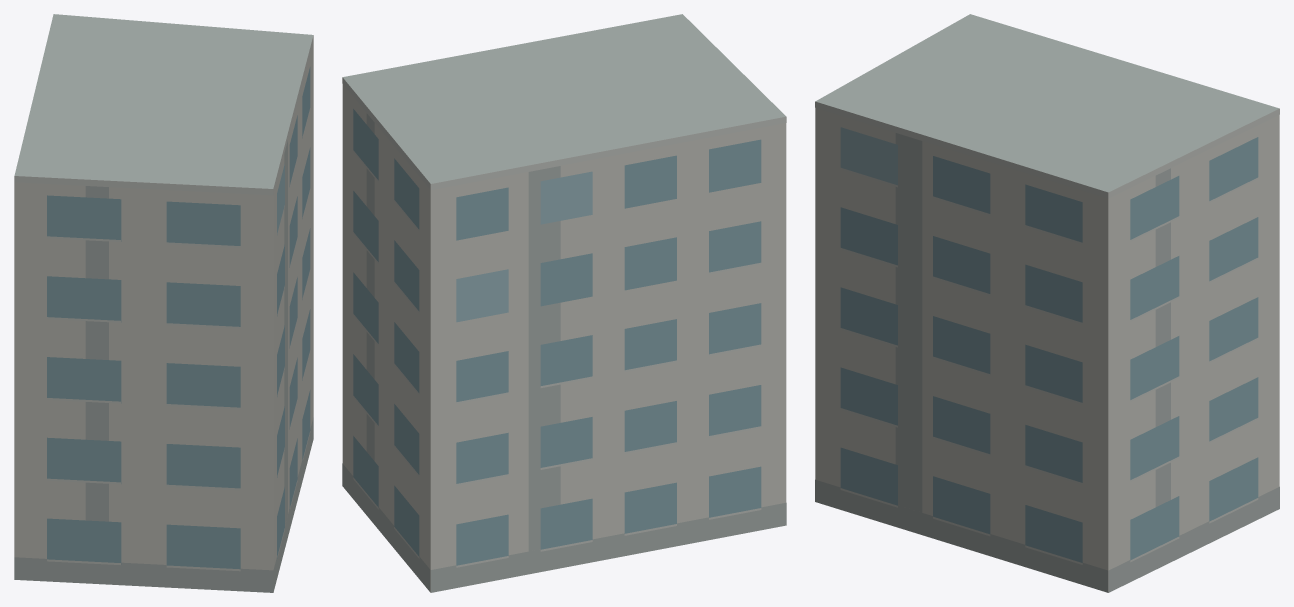
File: survey-upis-32574832.glb
3 renders of one model, left to right at view 1: azimuth 30°, elevation 25°; view 2: azimuth 150°, elevation 25°; view 3: azimuth 270°, elevation 25°, orthographic. The views are drawn at different scales.
Parts seen in each view (by area): view 1: survey-upis-32574832.tmp; view 2: survey-upis-32574832.tmp; view 3: survey-upis-32574832.tmp.
Part boxes in pixels (left/top/right/bottom): survey-upis-32574832.tmp: left=14, top=14, right=313, bottom=592; survey-upis-32574832.tmp: left=342, top=14, right=786, bottom=592; survey-upis-32574832.tmp: left=815, top=14, right=1279, bottom=592.
Size of the model in its own units: 14.73 by 15.4 by 16.2.
